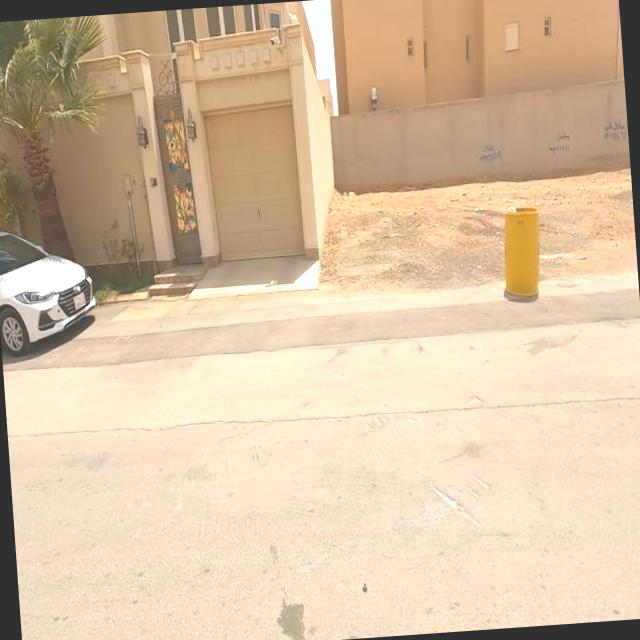debris: (443, 117, 528, 187), (522, 102, 599, 178), (582, 100, 630, 161), (326, 162, 366, 216), (494, 180, 522, 223)
